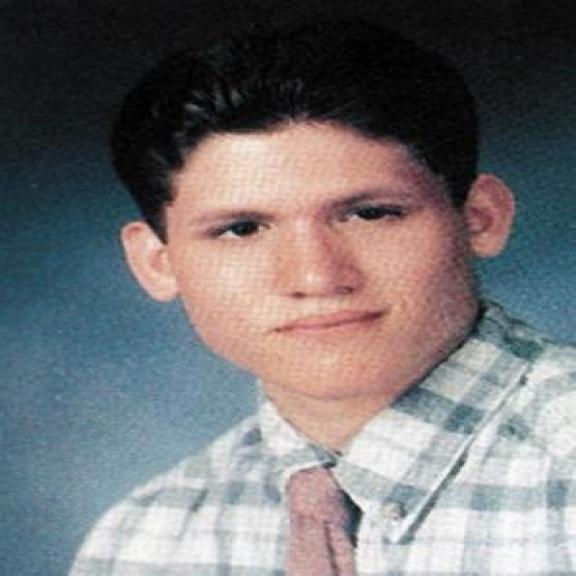face: (115, 134, 525, 400)
